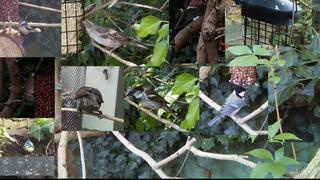blue tit: (22, 138, 34, 156)
great tit: (207, 86, 248, 127)
long tailed tit: (15, 20, 41, 38)
mouse: (22, 77, 35, 102)
sparrow: (81, 18, 149, 57), (125, 86, 179, 120)
starling: (76, 86, 104, 120)
